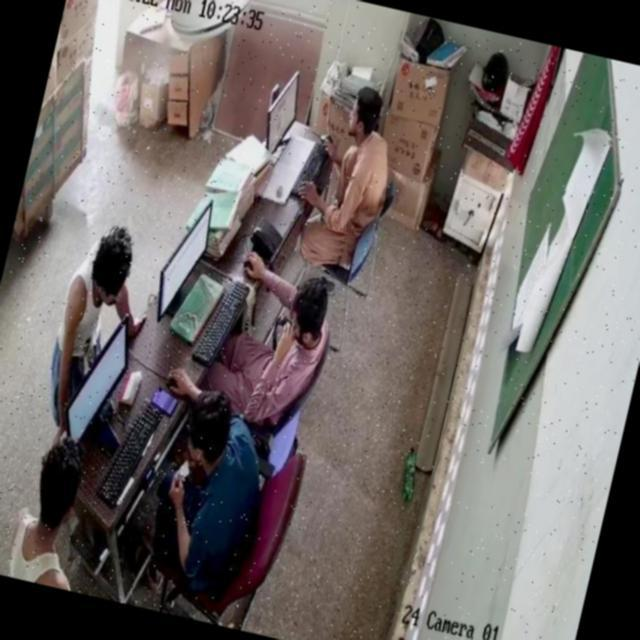person: (148, 380, 284, 598), (36, 212, 139, 425), (214, 262, 336, 422), (0, 442, 96, 590), (317, 90, 392, 256)
